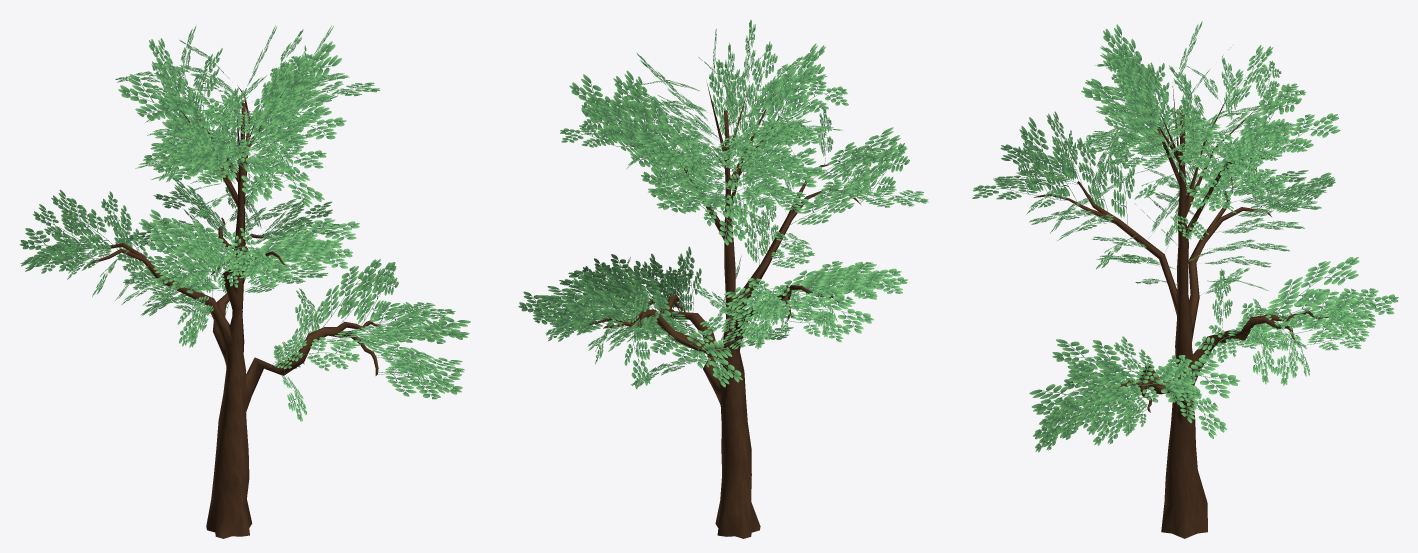
File: TreePO_01.fbx
3 renders of one model, left to right at view 1: azimuth 30°, elevation 25°; view 2: azimuth 150°, elevation 25°; view 3: azimuth 270°, elevation 25°, orthographic. The views are drawn at different scales.
Visible parts, largest first — view 1: treePO_01_LOD0; view 2: treePO_01_LOD0; view 3: treePO_01_LOD0.
Part boxes in pixels (left/top/right/bottom): treePO_01_LOD0: left=19, top=25, right=470, bottom=538; treePO_01_LOD0: left=518, top=19, right=928, bottom=538; treePO_01_LOD0: left=972, top=21, right=1398, bottom=538.
Size of what is drawn, in the model's own units: 3567 by 4304 by 3496.
